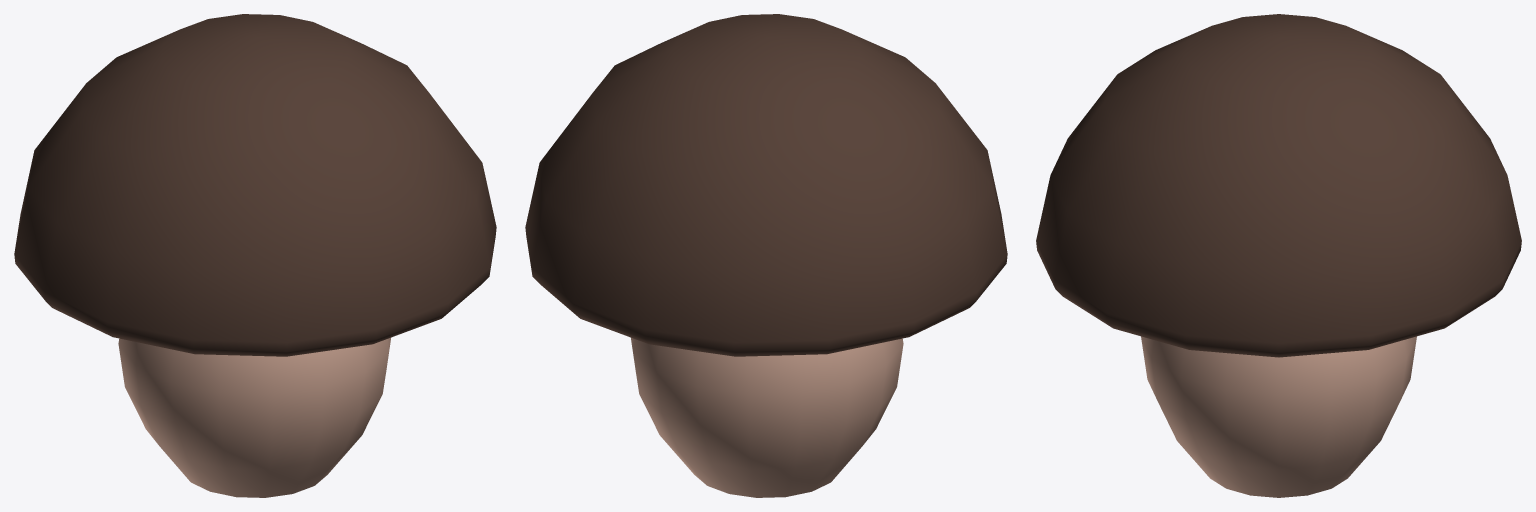
File: Mashroom_3_02.fbx
The picture shows the model from 3 angles, left to right: view 1: azimuth 30°, elevation 25°; view 2: azimuth 150°, elevation 25°; view 3: azimuth 270°, elevation 25°; orthographic projection.
Parts seen in each view (by area): view 1: Mashroom_3_02; view 2: Mashroom_3_02; view 3: Mashroom_3_02.
Part boxes in pixels (bbox=[...]): Mashroom_3_02: bbox=[14, 14, 496, 497]; Mashroom_3_02: bbox=[525, 14, 1007, 497]; Mashroom_3_02: bbox=[1036, 14, 1521, 497].
Bounding box in the file's own units: 338 × 329 × 338.
